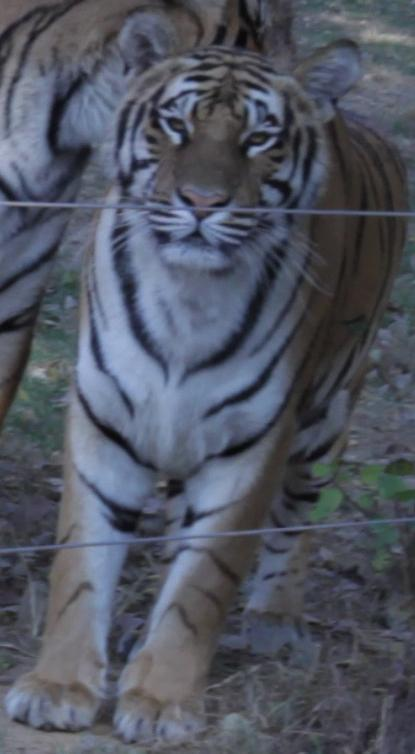tiger: (0, 0, 406, 740)
